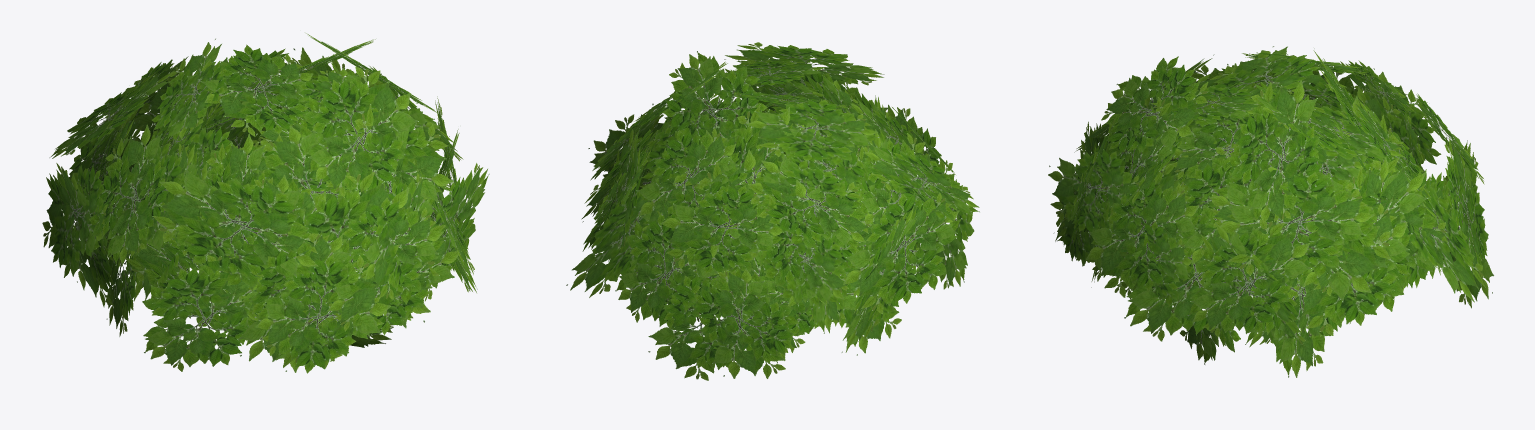
The model's file is SM_MetroShrub.fbx.
3 renders of one model, left to right at view 1: azimuth 30°, elevation 25°; view 2: azimuth 150°, elevation 25°; view 3: azimuth 270°, elevation 25°, orthographic. The views are drawn at different scales.
Visible parts, largest first — view 1: SM_MetroShrub_1_LOD0, SM_MetroShrub_0_LOD0, SM_MetroShrub_2_LOD0; view 2: SM_MetroShrub_1_LOD0, SM_MetroShrub_0_LOD0, SM_MetroShrub_2_LOD0; view 3: SM_MetroShrub_1_LOD0, SM_MetroShrub_0_LOD0, SM_MetroShrub_2_LOD0.
Boxes of the visible parts, x1,y1,x2,y2 form: SM_MetroShrub_1_LOD0: (42, 33, 489, 367); SM_MetroShrub_0_LOD0: (75, 38, 463, 334); SM_MetroShrub_2_LOD0: (69, 56, 477, 373); SM_MetroShrub_1_LOD0: (588, 42, 979, 352); SM_MetroShrub_0_LOD0: (581, 60, 955, 333); SM_MetroShrub_2_LOD0: (566, 92, 974, 380); SM_MetroShrub_1_LOD0: (1071, 54, 1441, 364); SM_MetroShrub_0_LOD0: (1057, 46, 1484, 347); SM_MetroShrub_2_LOD0: (1048, 63, 1494, 377).
Size of what is drawn, in the model's own units: 1.42 by 1.14 by 1.45.
